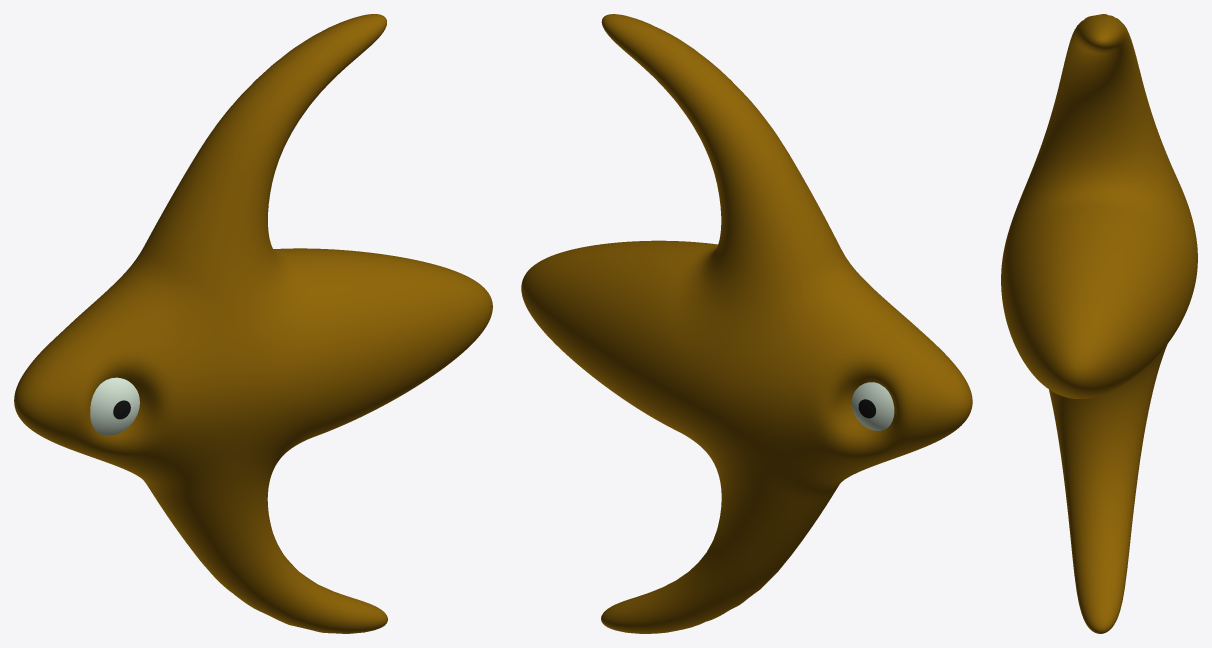
File: Fish.fbx
The picture shows the model from 3 angles, left to right: view 1: azimuth 30°, elevation 25°; view 2: azimuth 150°, elevation 25°; view 3: azimuth 270°, elevation 25°; orthographic projection.
Parts seen in each view (by area): view 1: Quad Sphere, Sphere; view 2: Quad Sphere, Sphere; view 3: Quad Sphere.
Part boxes in pixels (bbox=[...]): Quad Sphere: bbox=[14, 14, 492, 633]; Sphere: bbox=[90, 377, 139, 435]; Quad Sphere: bbox=[521, 14, 972, 633]; Sphere: bbox=[852, 382, 894, 430]; Quad Sphere: bbox=[1001, 14, 1197, 633].
Bounding box in the file's own units: 677 × 865 × 257.
